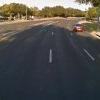Tree: (38, 4, 84, 18)
